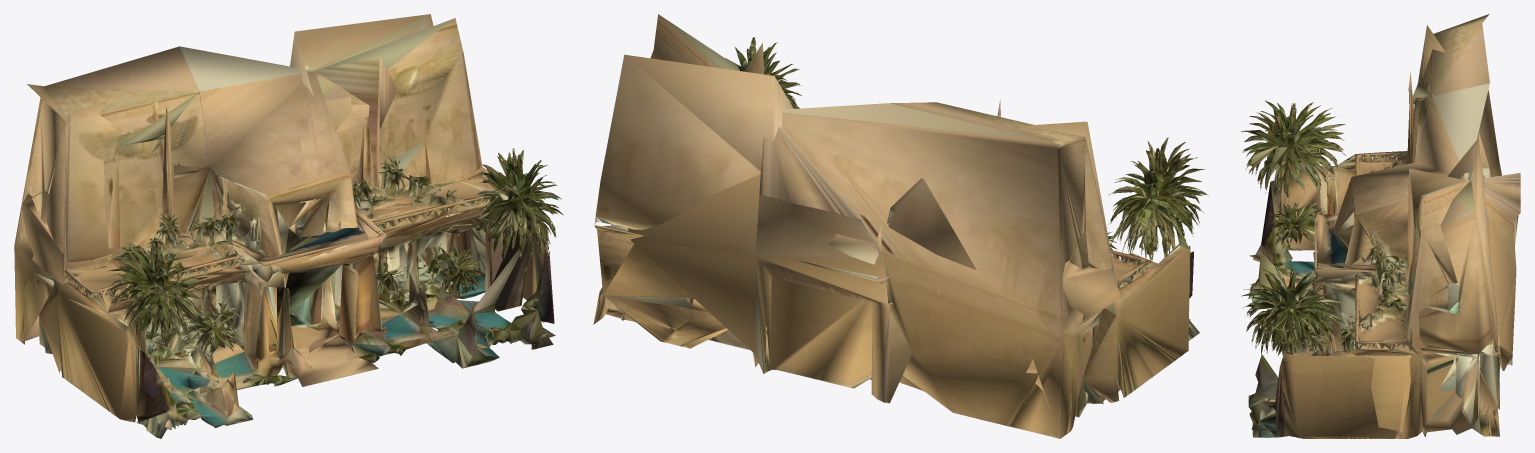
Rendered from Egyptian_Palace.glb.
3 views of the same model, side by side, from view 1: azimuth 30°, elevation 25°; view 2: azimuth 150°, elevation 25°; view 3: azimuth 270°, elevation 25° (orthographic). The views are drawn at different scales.
Visible parts, largest first — view 1: Egyptian_Palace; view 2: Egyptian_Palace; view 3: Egyptian_Palace.
Boxes of the visible parts, x1,y1,x2,y2 form: Egyptian_Palace: (14,14,563,438); Egyptian_Palace: (593,14,1209,438); Egyptian_Palace: (1241,14,1520,438).
Bounding box in the file's own units: 1.9 × 1.13 × 1.17.
Materials: 1 (1 with a texture image).
